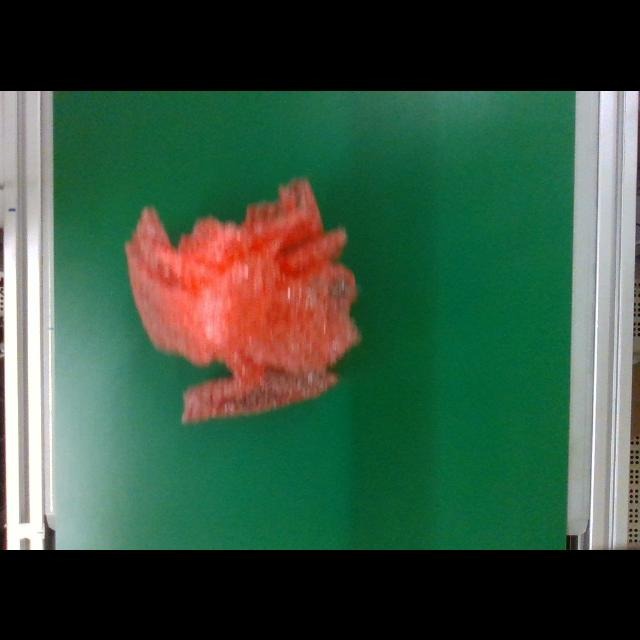scrap_plastic: (112, 177, 364, 423)
